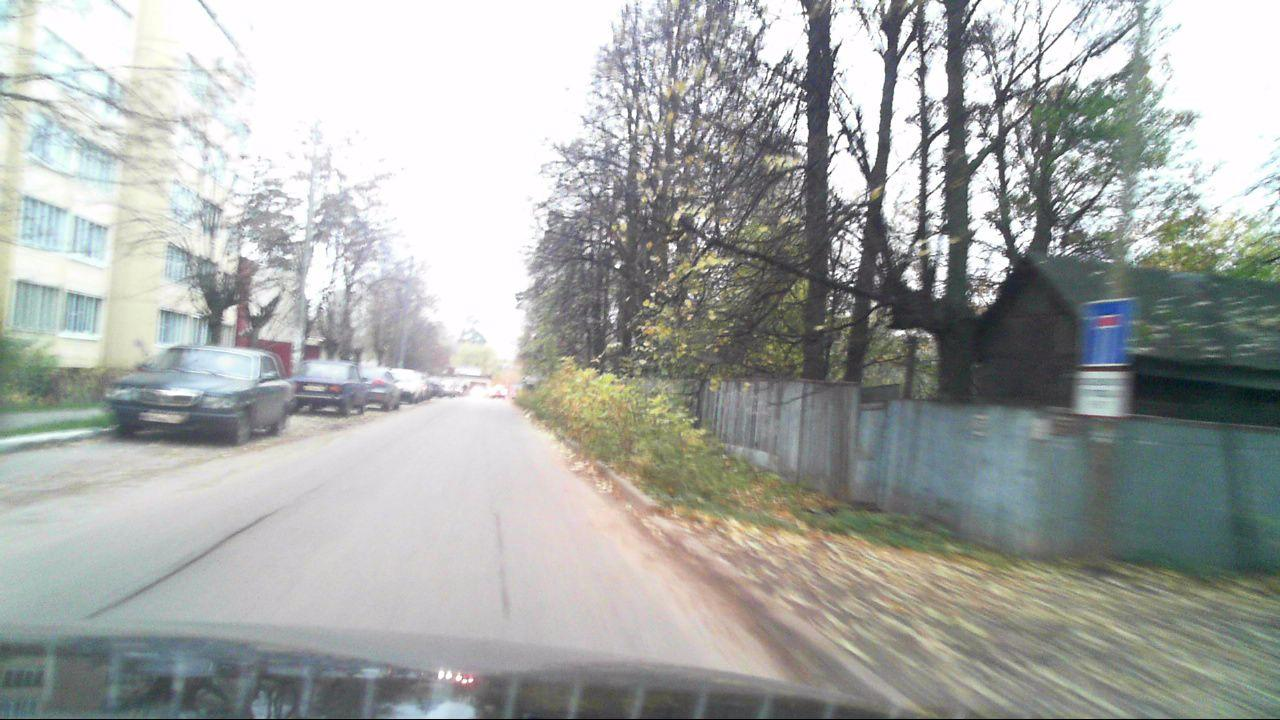6_8_1: (1088, 296, 1133, 366)
